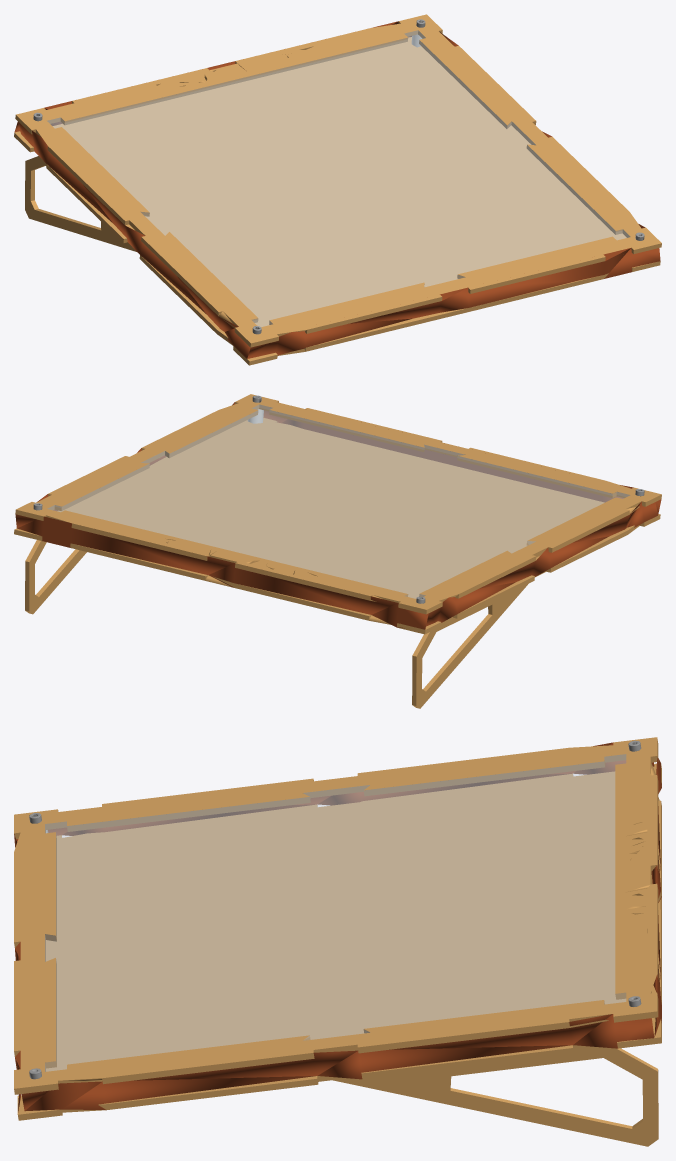
File: model-lite.lod1.glb
The picture shows the model from 3 angles, top to bottom: view 1: azimuth 30°, elevation 25°; view 2: azimuth 150°, elevation 25°; view 3: azimuth 270°, elevation 25°; orthographic projection. The views are drawn at different scales.
Parts seen in each view (by area): view 1: Body1, Body2, Body16; view 2: Body1, Body2, Body16; view 3: Body1, Body2, Body16.
Boxes of the visible parts, left/top/right/bottom form: Body1: left=14, top=14, right=661, bottom=365; Body2: left=47, top=30, right=630, bottom=326; Body16: left=14, top=21, right=660, bottom=358; Body1: left=14, top=394, right=661, bottom=708; Body2: left=47, top=404, right=629, bottom=598; Body16: left=15, top=402, right=661, bottom=629; Body1: left=14, top=737, right=661, bottom=1146; Body2: left=45, top=754, right=626, bottom=1071; Body16: left=14, top=742, right=661, bottom=1112.
Bounding box in the file's own units: 29.21 × 7.25 × 29.17.
